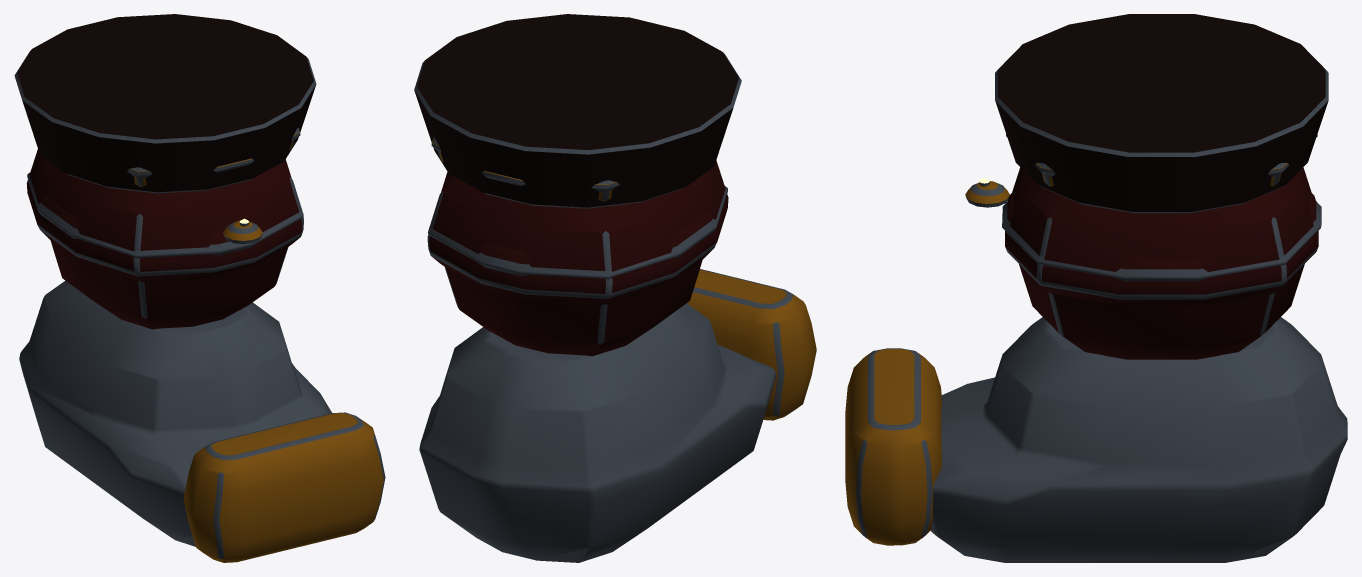
File: Bastiao_BotaL.fbx
3 views of the same model, side by side, from view 1: azimuth 30°, elevation 25°; view 2: azimuth 150°, elevation 25°; view 3: azimuth 270°, elevation 25° (orthographic). The views are drawn at different scales.
Visible parts, largest first — view 1: Piece; view 2: Piece; view 3: Piece.
Boxes of the visible parts, left/top/right/bottom form: Piece: left=14, top=14, right=385, bottom=562; Piece: left=414, top=14, right=816, bottom=562; Piece: left=845, top=14, right=1347, bottom=562.
Bounding box in the file's own units: 0.2144 × 0.3186 × 0.323.
